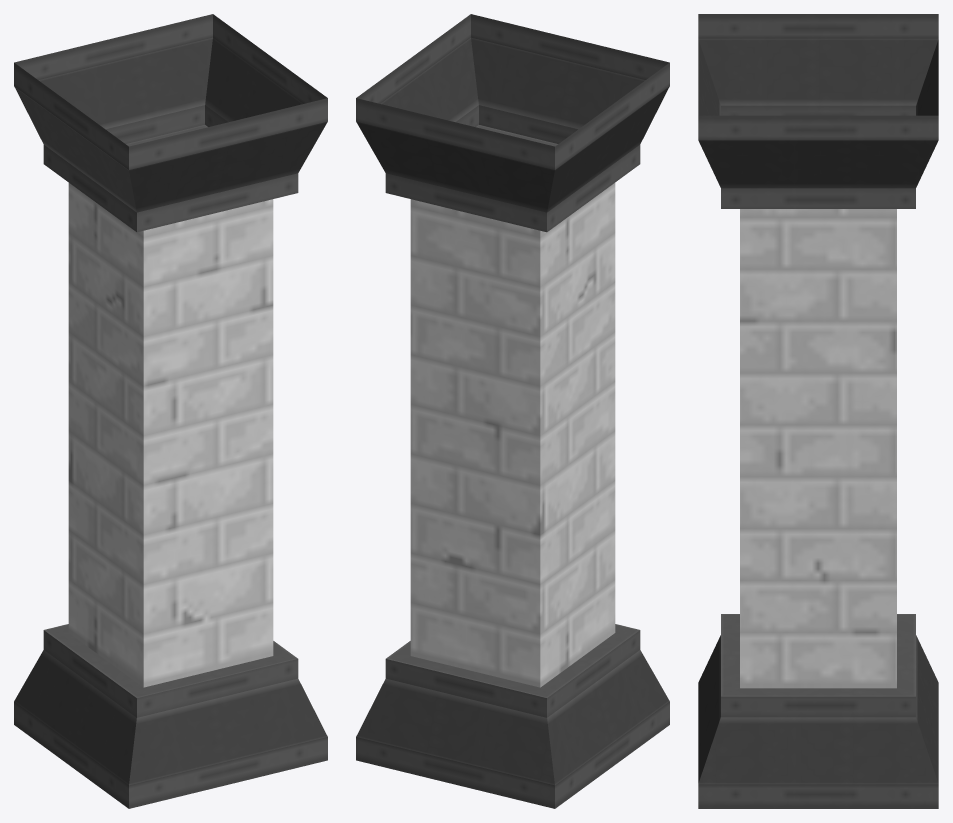
The model's file is Model_Level_Piller_Short.fbx.
3 renders of one model, left to right at view 1: azimuth 30°, elevation 25°; view 2: azimuth 150°, elevation 25°; view 3: azimuth 270°, elevation 25°, orthographic. The views are drawn at different scales.
Parts seen in each view (by area): view 1: Piller_Short; view 2: Piller_Short; view 3: Piller_Short.
Boxes of the visible parts, x1,y1,x2,y2 form: Piller_Short: (14,14,327,808); Piller_Short: (356,14,669,808); Piller_Short: (698,14,938,808).
Size of the model in its own units: 157 by 500 by 157.
